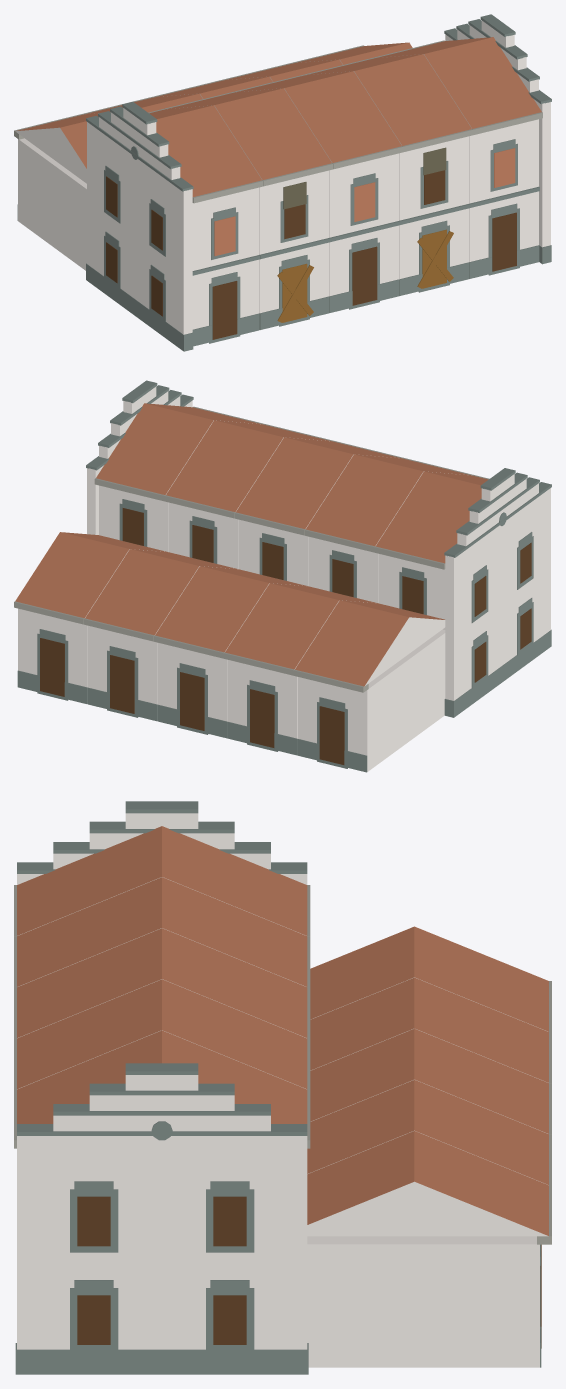
Rendered from SM_EdificioViajerosNules_v2_EnLiberacion_LOD0.fbx.
3 renders of one model, top to bottom at view 1: azimuth 30°, elevation 25°; view 2: azimuth 150°, elevation 25°; view 3: azimuth 270°, elevation 25°, orthographic. The views are drawn at different scales.
Visible parts, largest first — view 1: SM_edificio_viajeros_nules_v2_LOD0; view 2: SM_edificio_viajeros_nules_v2_LOD0; view 3: SM_edificio_viajeros_nules_v2_LOD0.
Part boxes in pixels (left/top/right/bottom): SM_edificio_viajeros_nules_v2_LOD0: left=14, top=14, right=551, bottom=351; SM_edificio_viajeros_nules_v2_LOD0: left=14, top=380, right=551, bottom=772; SM_edificio_viajeros_nules_v2_LOD0: left=14, top=801, right=551, bottom=1374.
Bounding box in the file's own units: 21.12 × 11.17 × 17.8.
